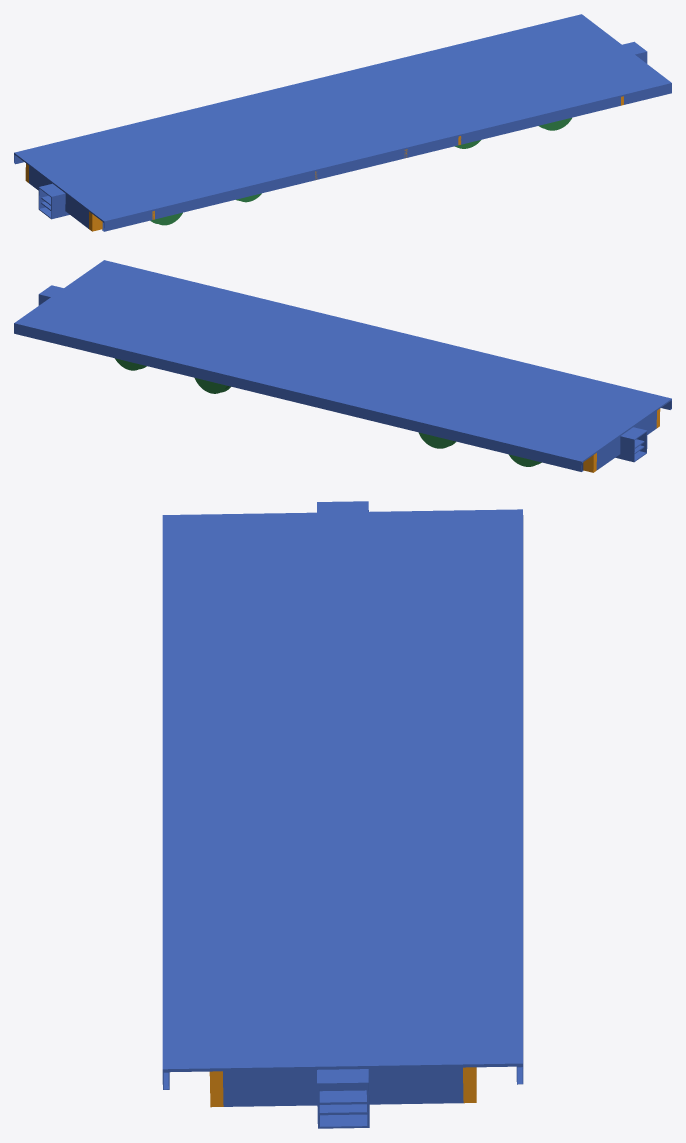
Rendered from DF1_optionB_R130ft_bump.glb.
3 renders of one model, top to bottom at view 1: azimuth 30°, elevation 25°; view 2: azimuth 150°, elevation 25°; view 3: azimuth 270°, elevation 25°, orthographic. The views are drawn at different scales.
Visible parts, largest first — view 1: coach_27_floor_plate_X0_10160_Z787_813_Y_1397__1397, coach_20_side_sill_X0_10160_Z635_787_Y_1397___1346, coach_21_drawgear_X_250_600_Z400_787_Y_200__200, coach_02_end_sill_X0_102_Z482_787_Y_813__813; view 2: coach_27_floor_plate_X0_10160_Z787_813_Y_1397__1397, coach_19_side_sill_X0_10160_Z635_787_Y1346__1397, coach_21_drawgear_X_250_600_Z400_787_Y_200__200, coach_02_end_sill_X0_102_Z482_787_Y_813__813, b0_045_wheel_1L; view 3: coach_27_floor_plate_X0_10160_Z787_813_Y_1397__1397, coach_03_end_sill_X10058_10160_Z482_787_Y_813__813, coach_24_drawgear_X9560_10410_Z400_787_Y_200__200.
Boxes of the visible parts, x1,y1,x2,y2 form: coach_27_floor_plate_X0_10160_Z787_813_Y_1397__1397: (14,14,671,222); coach_20_side_sill_X0_10160_Z635_787_Y_1397___1346: (102,84,671,231); coach_21_drawgear_X_250_600_Z400_787_Y_200__200: (38,183,69,219); coach_02_end_sill_X0_102_Z482_787_Y_813__813: (29,166,88,228); coach_27_floor_plate_X0_10160_Z787_813_Y_1397__1397: (14,260,671,462); coach_19_side_sill_X0_10160_Z635_787_Y1346__1397: (14,324,583,471); coach_21_drawgear_X_250_600_Z400_787_Y_200__200: (615,427,647,462); coach_02_end_sill_X0_102_Z482_787_Y_813__813: (596,411,656,470); b0_045_wheel_1L: (418,432,455,448); coach_27_floor_plate_X0_10160_Z787_813_Y_1397__1397: (162,509,522,1072); coach_03_end_sill_X10058_10160_Z482_787_Y_813__813: (223,1067,463,1106); coach_24_drawgear_X9560_10410_Z400_787_Y_200__200: (317,1069,369,1128).
Size of the model in its own units: 10660 by 828 by 2797.
